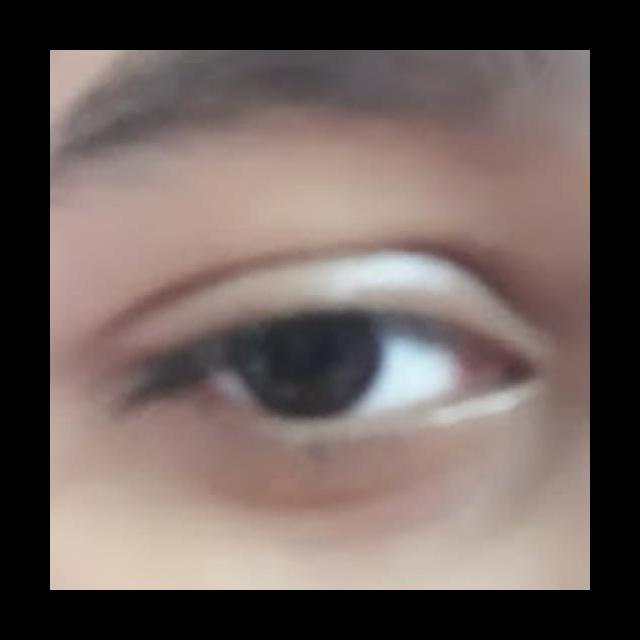eye: (201, 318, 514, 415)
iris: (226, 320, 374, 410)
